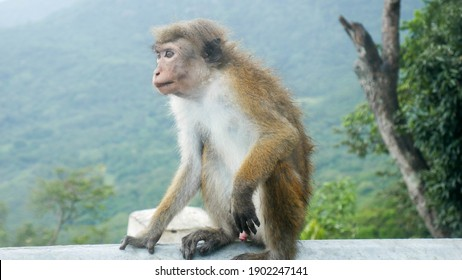Monkey: (118, 16, 312, 258)
